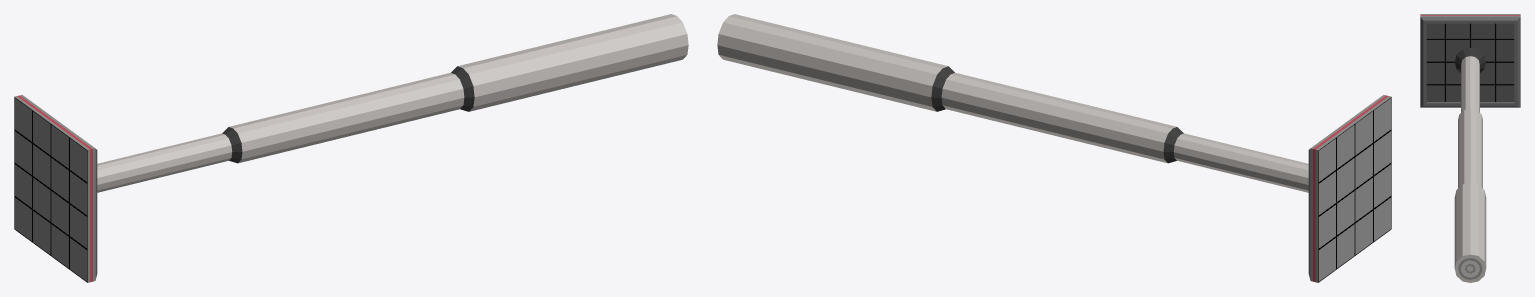
The model's file is piston_platform.obj.
3 views of the same model, side by side, from view 1: azimuth 30°, elevation 25°; view 2: azimuth 150°, elevation 25°; view 3: azimuth 270°, elevation 25° (orthographic). The views are drawn at different scales.
Parts seen in each view (by area): view 1: piston_arm.mdl/piston_arm.smd; view 2: piston_arm.mdl/piston_arm.smd; view 3: piston_arm.mdl/piston_arm.smd.
Part boxes in pixels (x1,y1,x2,y2): piston_arm.mdl/piston_arm.smd: [14, 14, 688, 282]; piston_arm.mdl/piston_arm.smd: [717, 14, 1391, 282]; piston_arm.mdl/piston_arm.smd: [1420, 14, 1520, 282].
Bounding box in the file's own units: 9.87 × 2 × 2.
